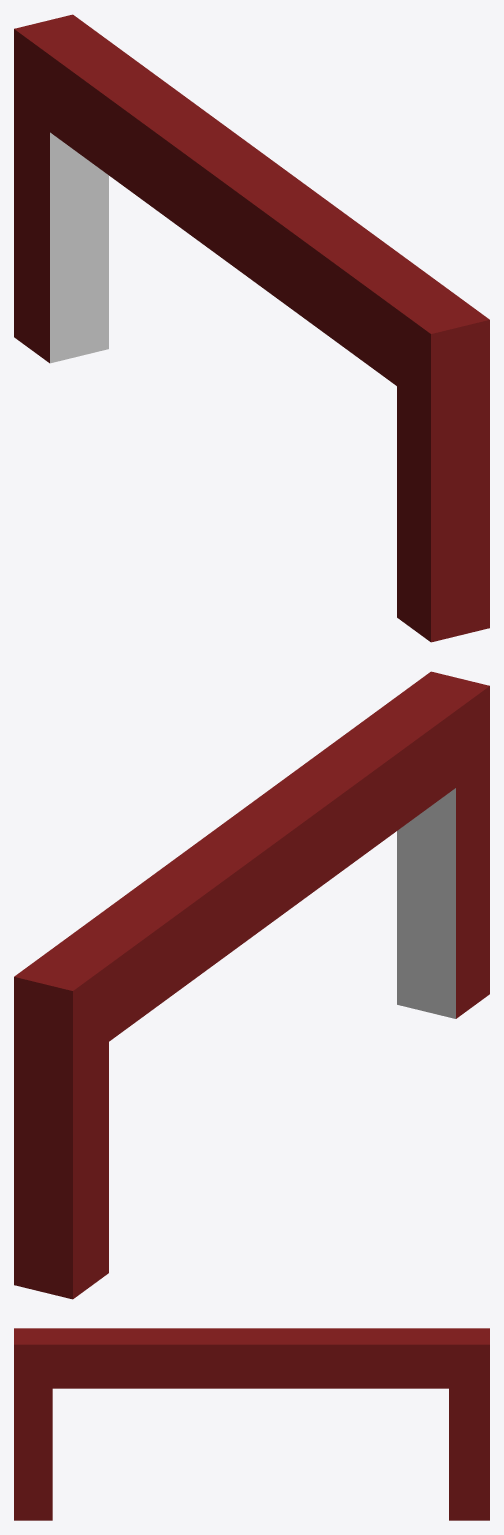
File: fence.fbx
3 views of the same model, one above another, from view 1: azimuth 30°, elevation 25°; view 2: azimuth 150°, elevation 25°; view 3: azimuth 270°, elevation 25° (orthographic). The views are drawn at different scales.
Parts seen in each view (by area): view 1: Cube; view 2: Cube; view 3: Cube.
Part boxes in pixels (x1,y1,x2,y2): Cube: (14,14,489,642); Cube: (14,671,489,1299); Cube: (14,1328,489,1520).
Size of the model in its own units: 30 by 150 by 368.
